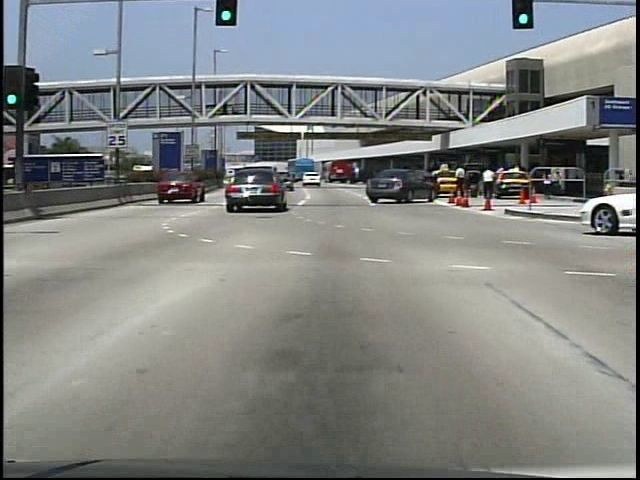person: (454, 166, 472, 205), (479, 166, 497, 203), (539, 168, 555, 203), (220, 97, 230, 118)
